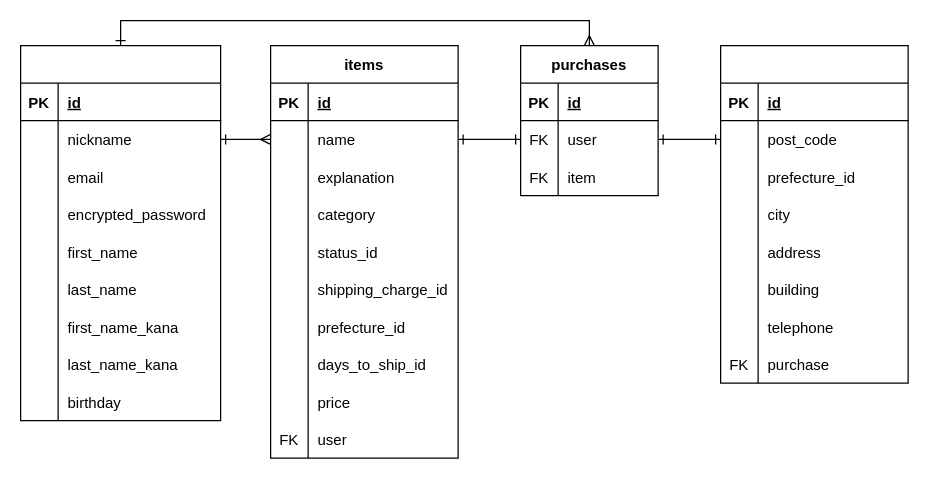
Some shapes in this 929 by 479 pixel diagram are drawn without their labels. The box of each missing label's shape, as (x1, y1, x2, y2) in pixels:
shippings: (719, 44, 908, 383)
users: (19, 44, 221, 421)
